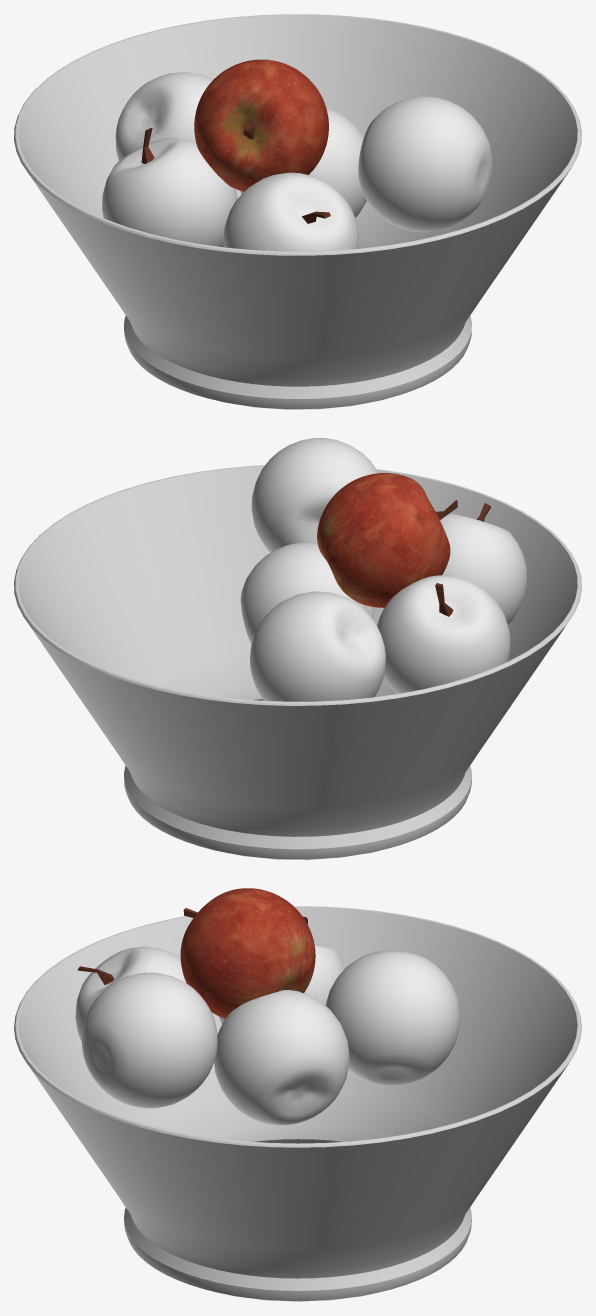
File: Apple.fbx
3 views of the same model, one above another, from view 1: azimuth 30°, elevation 25°; view 2: azimuth 150°, elevation 25°; view 3: azimuth 270°, elevation 25° (orthographic).
Parts seen in each view (by area): view 1: Circle, Sphere.003, Sphere.005, Sphere, Sphere.001, Sphere.004, Sphere.002; view 2: Circle, Sphere.005, Sphere.004, Sphere, Sphere.003, Sphere.001, Sphere.002; view 3: Circle, Sphere.003, Sphere.002, Sphere.004, Sphere.005, Sphere.001, Sphere.
Part boxes in pixels (bbox=[...]): Circle: bbox=[14, 14, 581, 409]; Sphere.003: bbox=[358, 96, 492, 232]; Sphere.005: bbox=[194, 59, 328, 191]; Sphere: bbox=[102, 137, 237, 246]; Sphere.001: bbox=[223, 172, 359, 251]; Sphere.004: bbox=[115, 72, 213, 160]; Sphere.002: bbox=[240, 107, 366, 217]; Circle: bbox=[14, 465, 581, 859]; Sphere.005: bbox=[317, 473, 450, 607]; Sphere.004: bbox=[250, 591, 385, 701]; Sphere: bbox=[377, 575, 510, 693]; Sphere.003: bbox=[251, 438, 378, 552]; Sphere.001: bbox=[440, 513, 527, 624]; Sphere.002: bbox=[240, 542, 374, 644]; Circle: bbox=[14, 906, 581, 1301]; Sphere.003: bbox=[82, 972, 217, 1108]; Sphere.002: bbox=[214, 990, 349, 1125]; Sphere.004: bbox=[325, 950, 460, 1084]; Sphere.005: bbox=[180, 888, 315, 1018]; Sphere.001: bbox=[75, 946, 186, 1042]; Sphere: bbox=[218, 939, 344, 1024].
Size of the model in its own units: 333 by 200 by 333.
